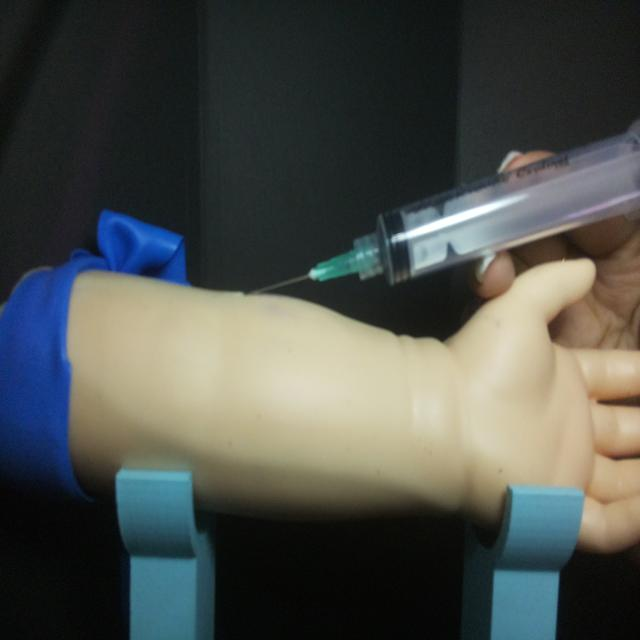18deg: (243, 118, 640, 294)
